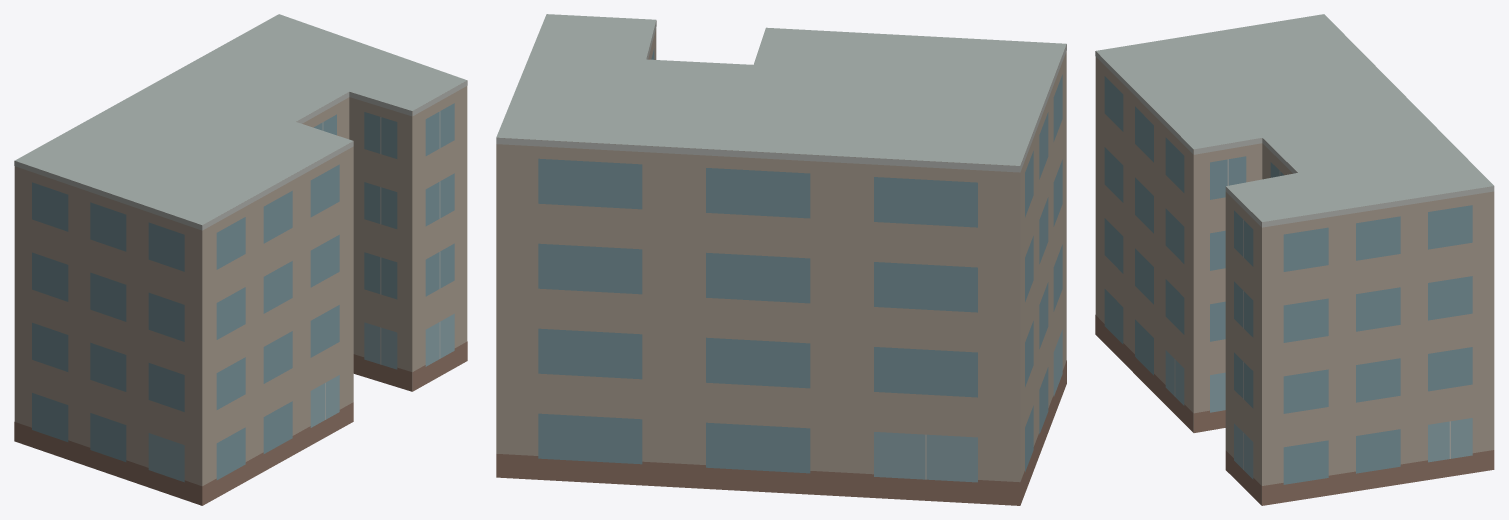
The model's file is survey-upis-32761248.glb.
The picture shows the model from 3 angles, left to right: view 1: azimuth 30°, elevation 25°; view 2: azimuth 150°, elevation 25°; view 3: azimuth 270°, elevation 25°; orthographic projection. The views are drawn at different scales.
Parts seen in each view (by area): view 1: survey-upis-32761248.tmp; view 2: survey-upis-32761248.tmp; view 3: survey-upis-32761248.tmp.
Part boxes in pixels (x1,y1,x2,y2): survey-upis-32761248.tmp: [14, 14, 467, 505]; survey-upis-32761248.tmp: [496, 14, 1066, 505]; survey-upis-32761248.tmp: [1095, 14, 1494, 505].
Size of the model in its own units: 20.07 by 12.75 by 16.26.
